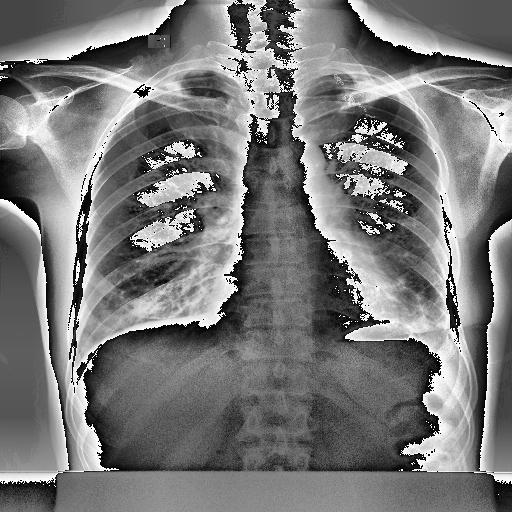10- Pleural effusion: (424, 310, 456, 350)
11- Pleural thickening: (142, 67, 204, 99), (144, 66, 204, 96), (424, 310, 456, 350), (171, 68, 217, 77)
13- Pulmonary fibrosis: (396, 272, 444, 324), (408, 282, 430, 332)
3- Cardiomegaly: (214, 272, 405, 338)
7- Lung Opacity: (364, 238, 460, 341), (372, 238, 458, 333)
